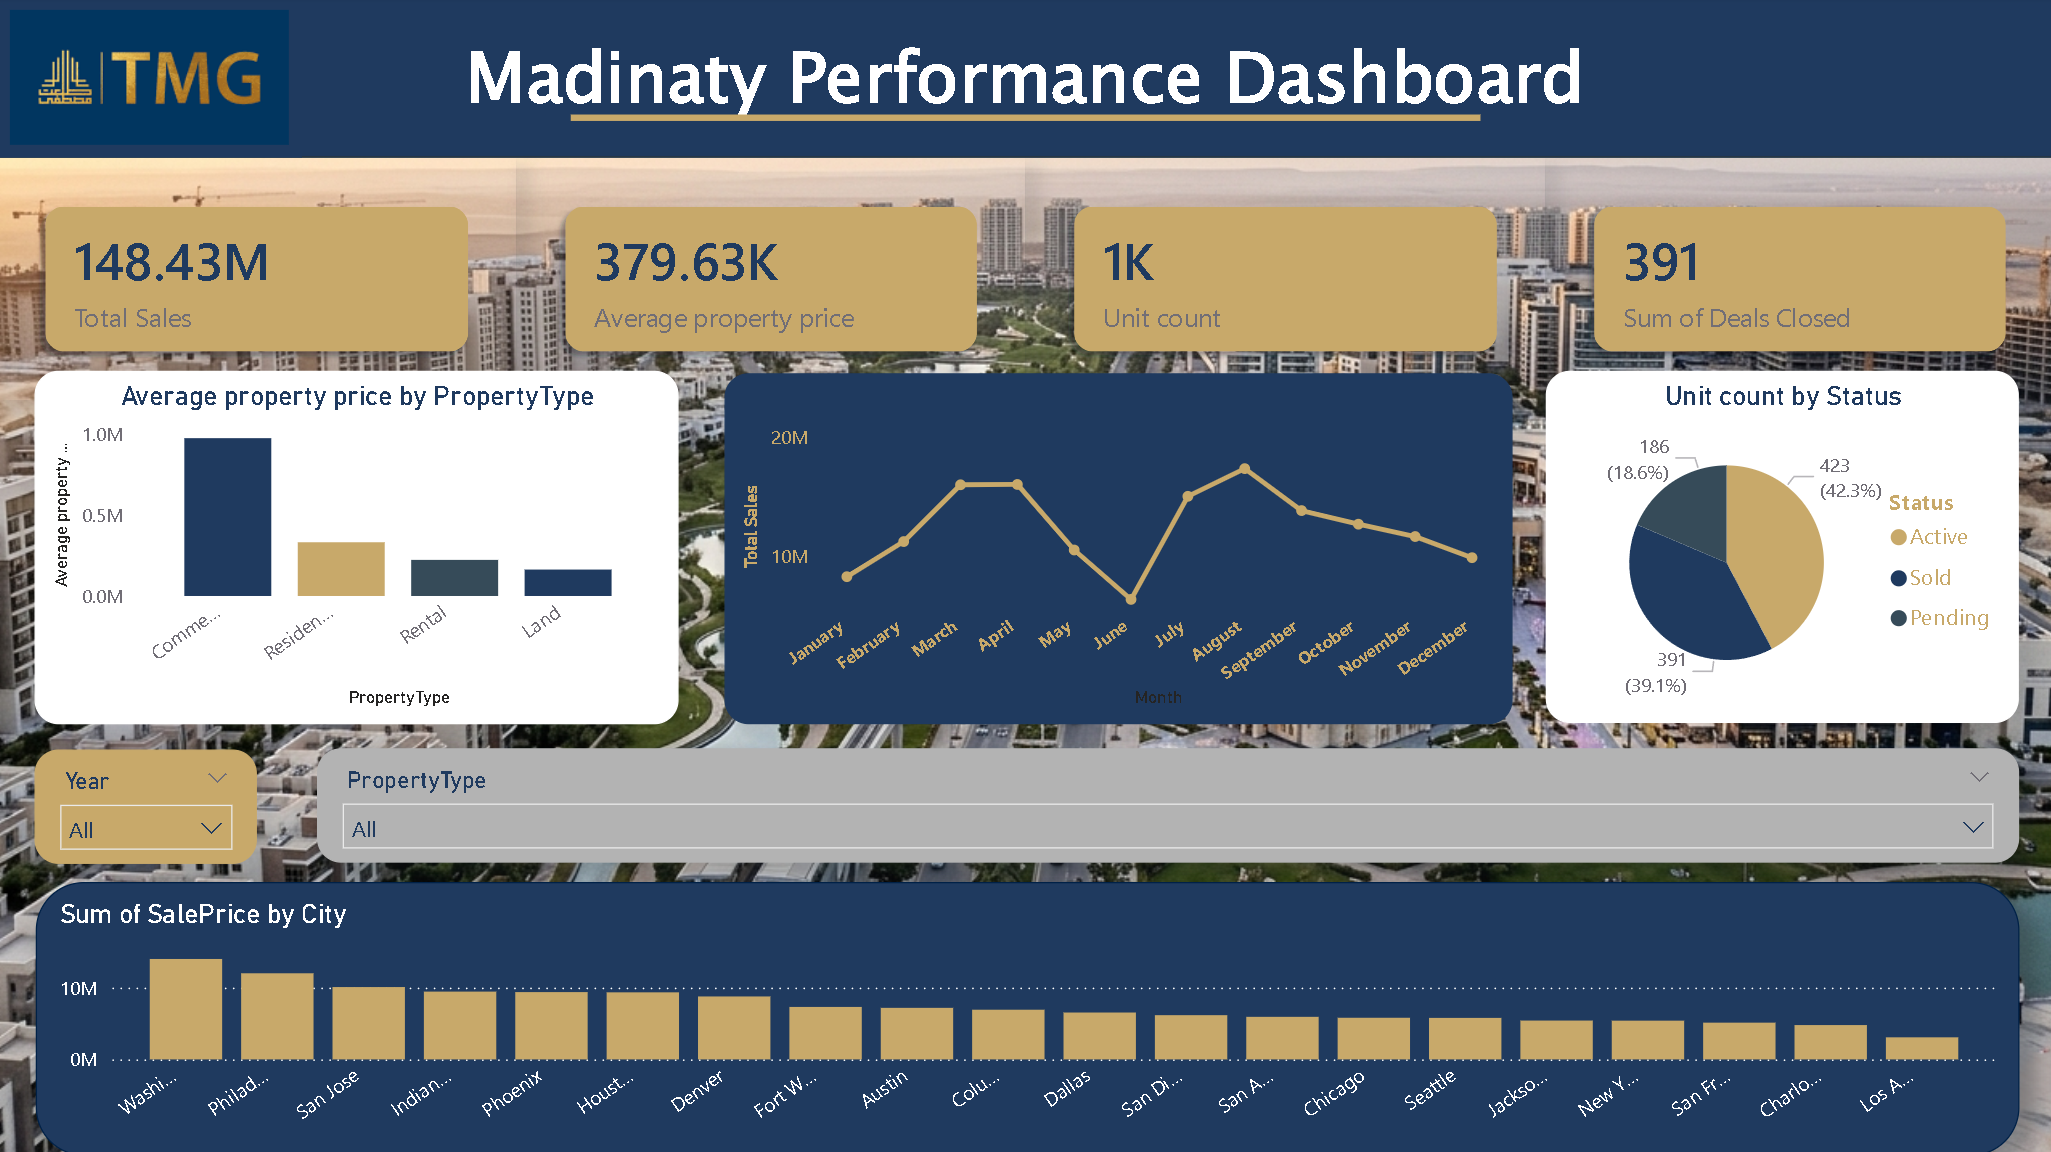

The page's visual inventory and layout, read from the dashboard file:
{"tool":"powerbi","page":{"name":"Dashboard","canvas":[1280,720],"ordinal":1},"visuals":[{"type":"shape","box":[0,0,1280.2,100],"z":0},{"type":"textbox","box":[0,0,1280.2,100],"z":1000},{"type":"shape","box":[357.4,0,566.1,150.3],"z":2000},{"type":"cardVisual","fields":{"Data":["real_estate.Total Sales"]},"box":[0,100.1,323.4,150.2],"z":3000},{"type":"cardVisual","fields":{"Data":["real_estate.Average property price"]},"box":[323.4,100.1,316.3,150.2],"z":4000},{"type":"cardVisual","fields":{"Data":["real_estate.Unit count"]},"box":[640.5,100.1,323.4,150.2],"z":5000},{"type":"cardVisual","fields":{"Data":["Sum(AGENT PERFORMANCE — SALES & COMMISSION (Agent Performance).Deals Closed)"]},"box":[963.9,100.1,316.3,150.2],"z":6000},{"type":"lineChart","title":"Sales Trend Over Time","fields":{"Category":["real_estate.SaleDate.Variation.Date Hierarchy.Month"],"Y":["real_estate.Total Sales"]},"box":[0,250.3,533.7,218.5],"z":7000},{"type":"clusteredColumnChart","fields":{"Category":["real_estate.PropertyType"],"Y":["real_estate.Average property price"]},"box":[533.3,250,462,219.3],"z":8000},{"type":"pieChart","fields":{"Category":["real_estate.Status"],"Y":["real_estate.Unit count"]},"box":[989.1,250.6,290.9,218.4],"z":9000},{"type":"slicer","fields":{"Values":["real_estate.SaleDate.Variation.Date Hierarchy.Year"]},"box":[0,468.2,133.6,70.9],"z":10000},{"type":"slicer","fields":{"Values":["real_estate.PropertyType"]},"box":[127,468,1153,71],"z":11000},{"type":"image","box":[0,0,189.8,100.3],"z":12000},{"type":"textbox","box":[22.7,553.6,379,152],"z":13000},{"type":"textbox","box":[451.8,553.6,379,152],"z":14000},{"type":"textbox","box":[880.9,554.5,379,152],"z":15000}]}

Visuals, with their boxes in screenshot pixels (x1, y1, x2, y2), scaled from the page's 1280x720 canvas onto the 2051x1152 screenshot:
shape: 0:0:2050:160
textbox: 0:0:2050:160
shape: 573:0:1480:240
cardVisual - real_estate.Total Sales: 0:160:518:400
cardVisual - real_estate.Average property price: 518:160:1025:400
cardVisual - real_estate.Unit count: 1026:160:1544:400
cardVisual - Sum(AGENT PERFORMANCE — SALES & COMMISSION (Agent Performance).Deals Closed): 1544:160:2050:400
"Sales Trend Over Time" lineChart: 0:400:855:750
clusteredColumnChart - real_estate.PropertyType x real_estate.Average property price: 855:400:1595:751
pieChart - real_estate.Status x real_estate.Unit count: 1585:401:2050:750
slicer - real_estate.SaleDate.Variation.Date Hierarchy.Year: 0:749:214:863
slicer - real_estate.PropertyType: 203:749:2050:862
image: 0:0:304:160
textbox: 36:886:644:1129
textbox: 724:886:1331:1129
textbox: 1412:887:2019:1130
